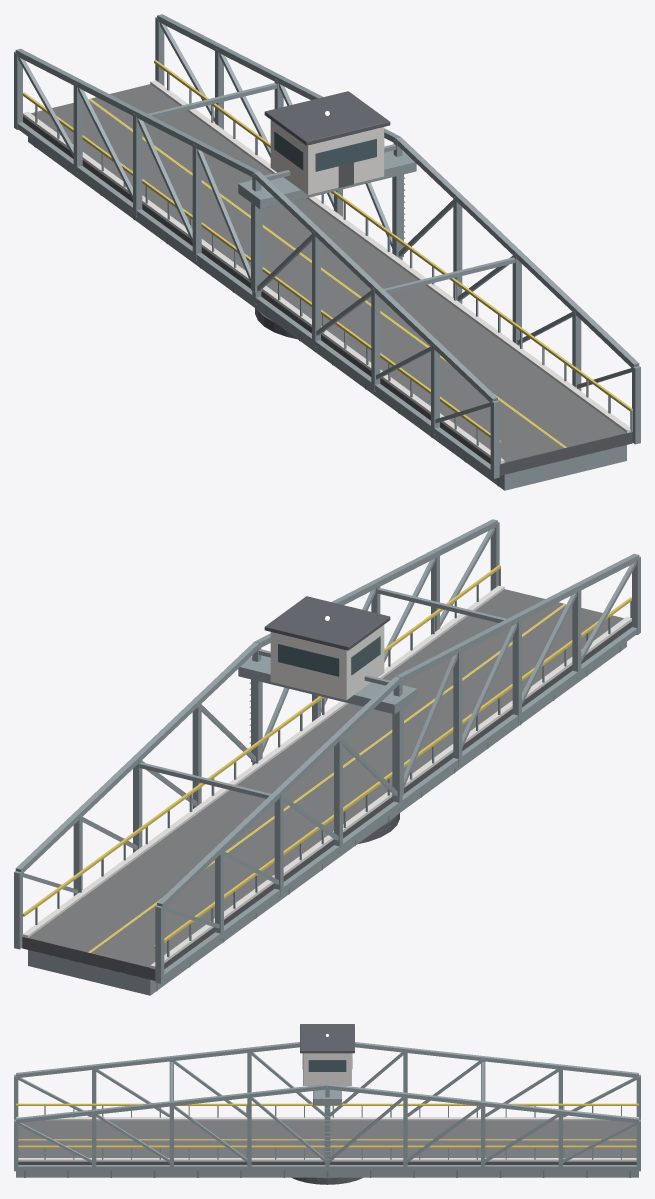
The model's file is swing_span.glb.
3 renders of one model, top to bottom at view 1: azimuth 30°, elevation 25°; view 2: azimuth 150°, elevation 25°; view 3: azimuth 270°, elevation 25°, orthographic. The views are drawn at different scales.
Visible parts, largest first — view 1: ss_span_mesh; view 2: ss_span_mesh; view 3: ss_span_mesh.
Part boxes in pixels (x1=…): ss_span_mesh: x1=14, y1=14, x2=640, y2=490; ss_span_mesh: x1=14, y1=519, x2=640, y2=995; ss_span_mesh: x1=14, y1=1024, x2=640, y2=1184.
Size of the model in its own units: 8.2 by 10.02 by 43.5.
